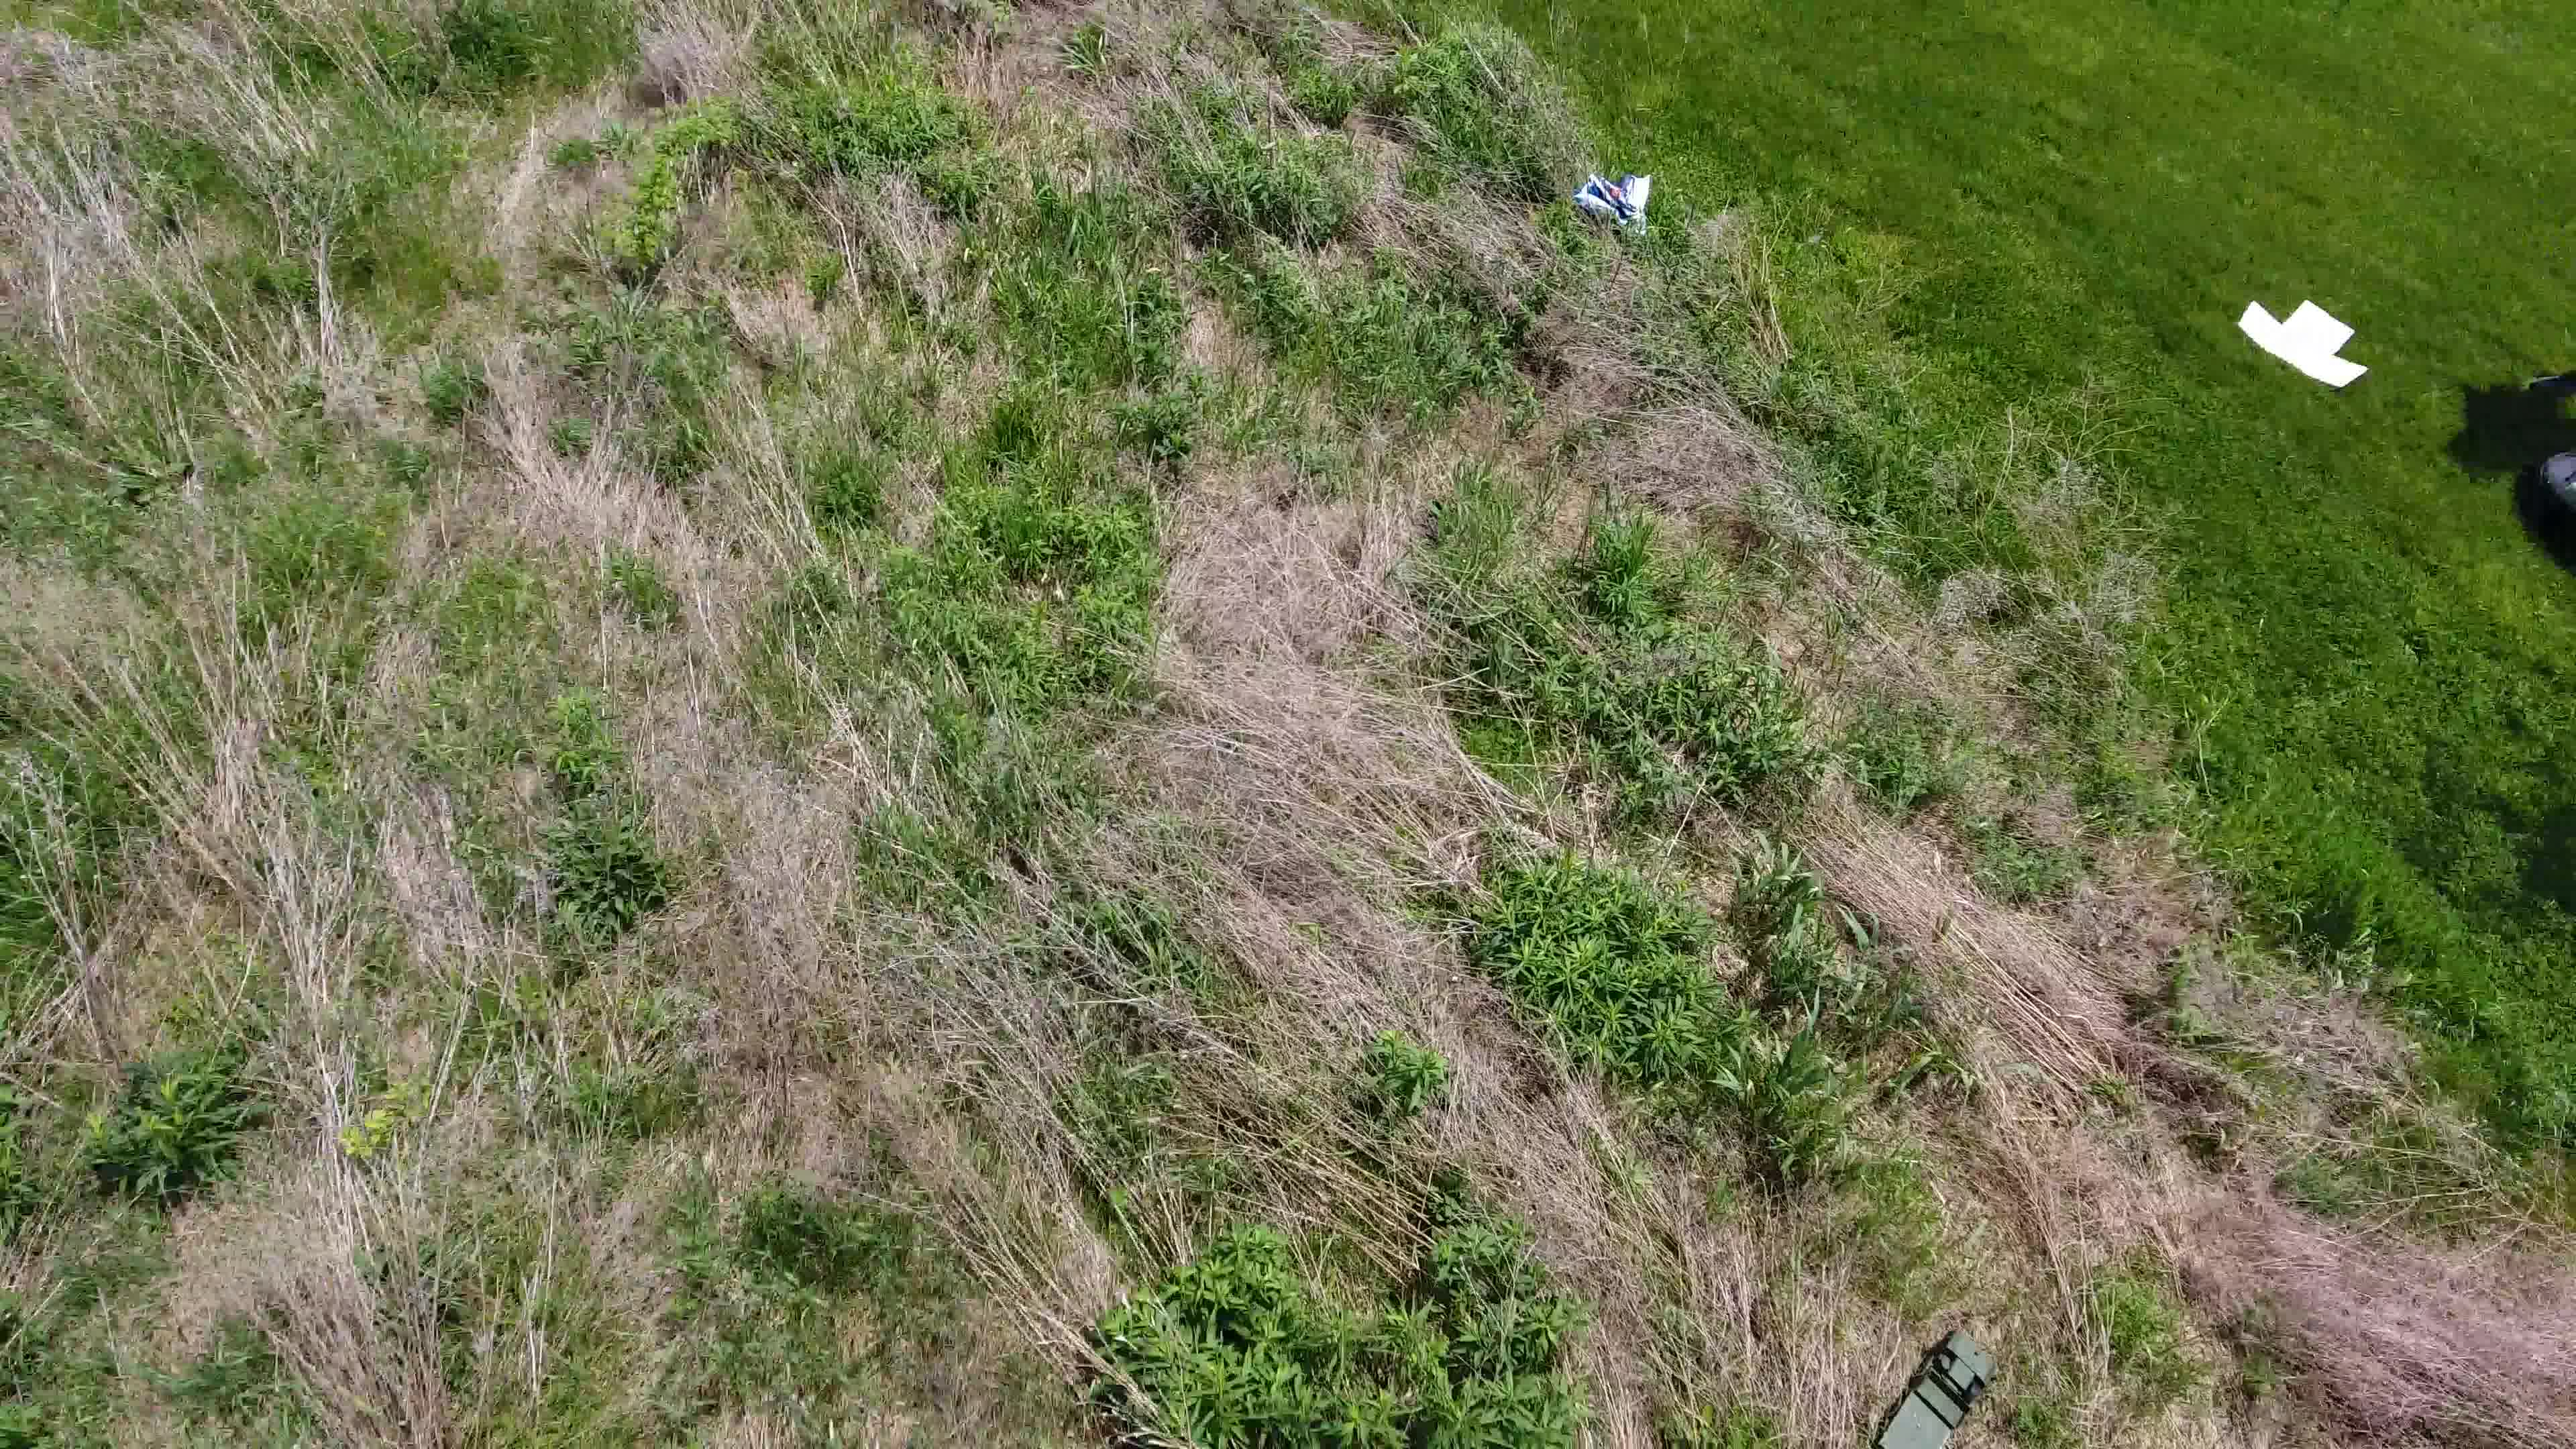transporter9: (1863, 1316, 2008, 1449)
